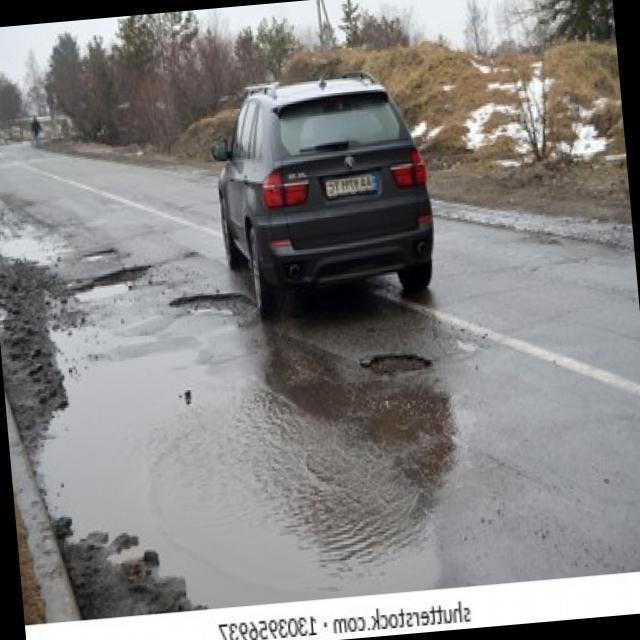pothole: (71, 262, 161, 304), (167, 287, 257, 327), (360, 350, 436, 379), (79, 245, 120, 264)
